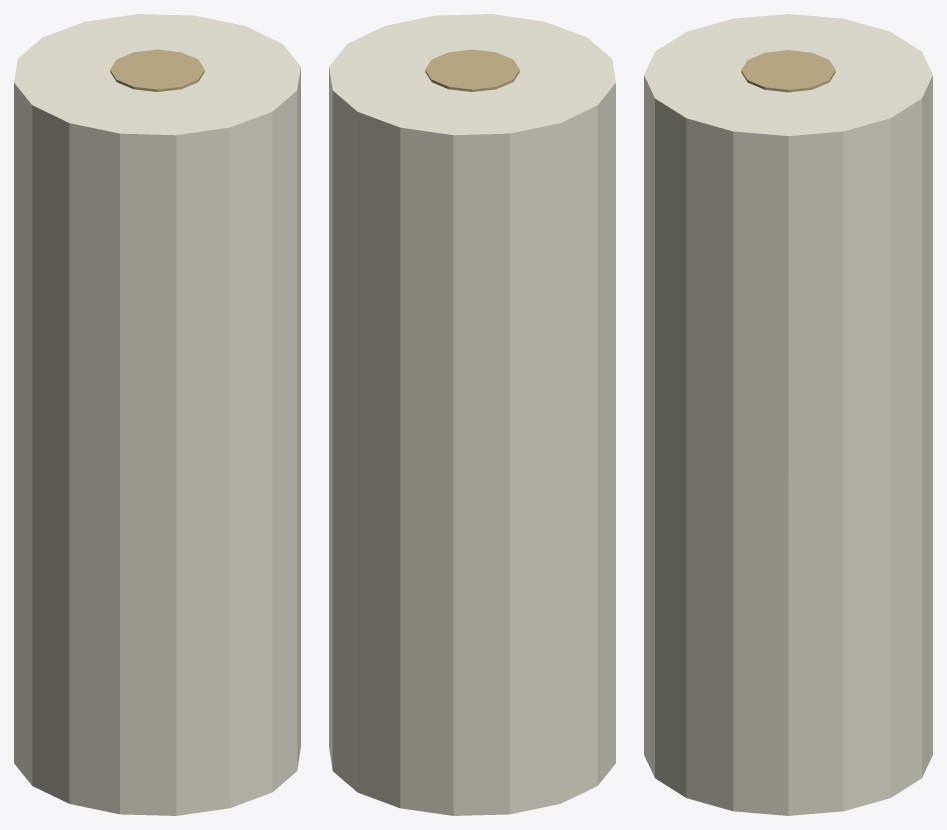
The model's file is paper_towels.fbx.
3 renders of one model, left to right at view 1: azimuth 30°, elevation 25°; view 2: azimuth 150°, elevation 25°; view 3: azimuth 270°, elevation 25°, orthographic.
Visible parts, largest first — view 1: paper_towels; view 2: paper_towels; view 3: paper_towels.
Part boxes in pixels (x1,y1,x2,y2): paper_towels: (14,14,300,815); paper_towels: (329,14,615,815); paper_towels: (644,14,932,815).
Size of the model in its own units: 10.4 by 27.2 by 10.4.
